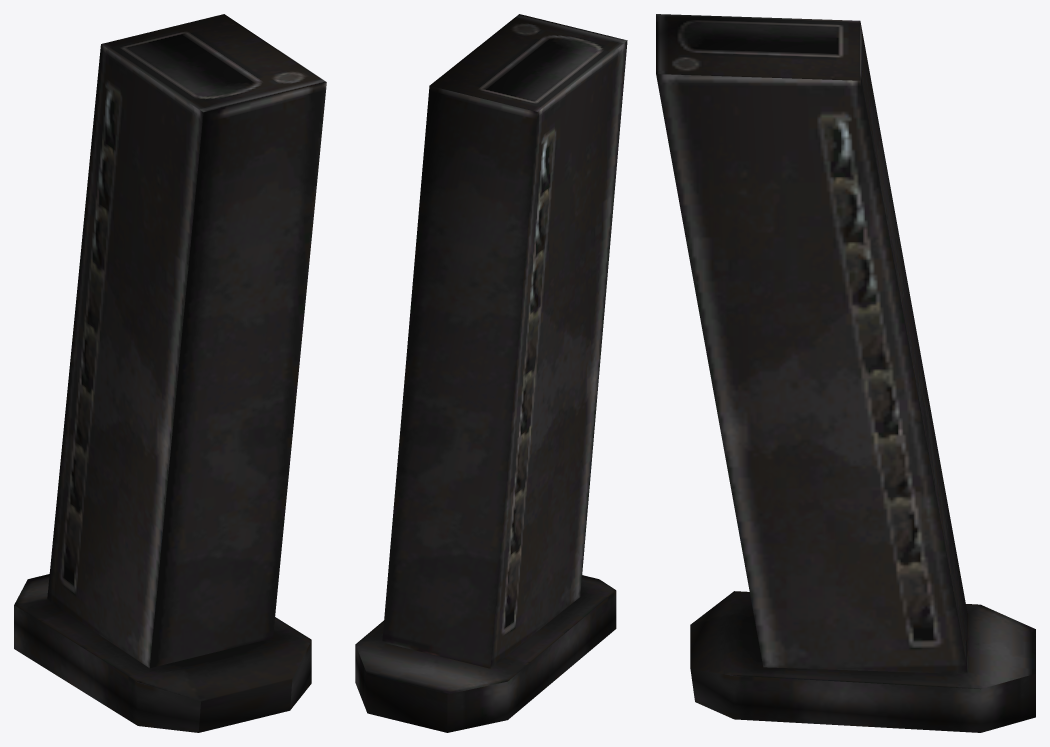
The model's file is mag_9mm.glb.
3 renders of one model, left to right at view 1: azimuth 30°, elevation 25°; view 2: azimuth 150°, elevation 25°; view 3: azimuth 270°, elevation 25°, orthographic. The views are drawn at different scales.
Parts seen in each view (by area): view 1: __lithtech_lh_to_gltf_rh__; view 2: __lithtech_lh_to_gltf_rh__; view 3: __lithtech_lh_to_gltf_rh__.
Part boxes in pixels (left/top/right/bottom): __lithtech_lh_to_gltf_rh__: left=14, top=14, right=326, bottom=732; __lithtech_lh_to_gltf_rh__: left=355, top=14, right=627, bottom=732; __lithtech_lh_to_gltf_rh__: left=656, top=14, right=1035, bottom=732.
Size of the model in its own units: 2.35 by 8.44 by 4.46.
Materials: 1 (1 with a texture image).
